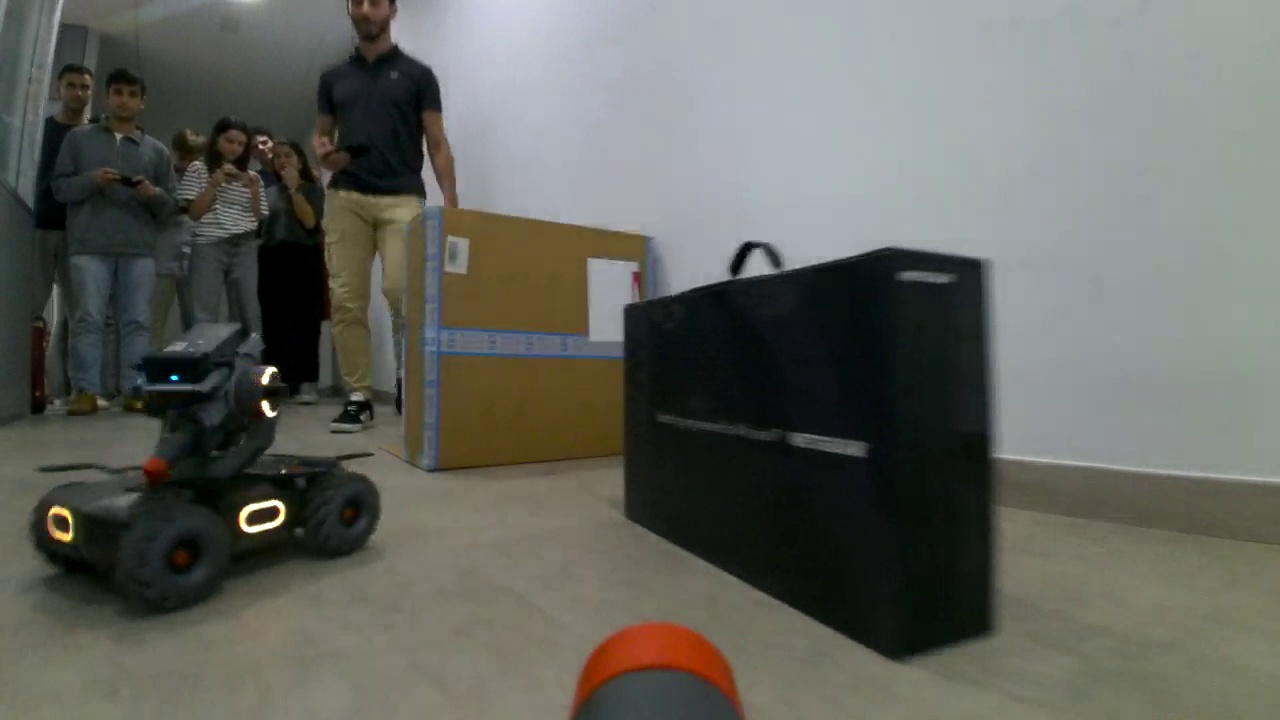robot: (26, 313, 386, 623)
